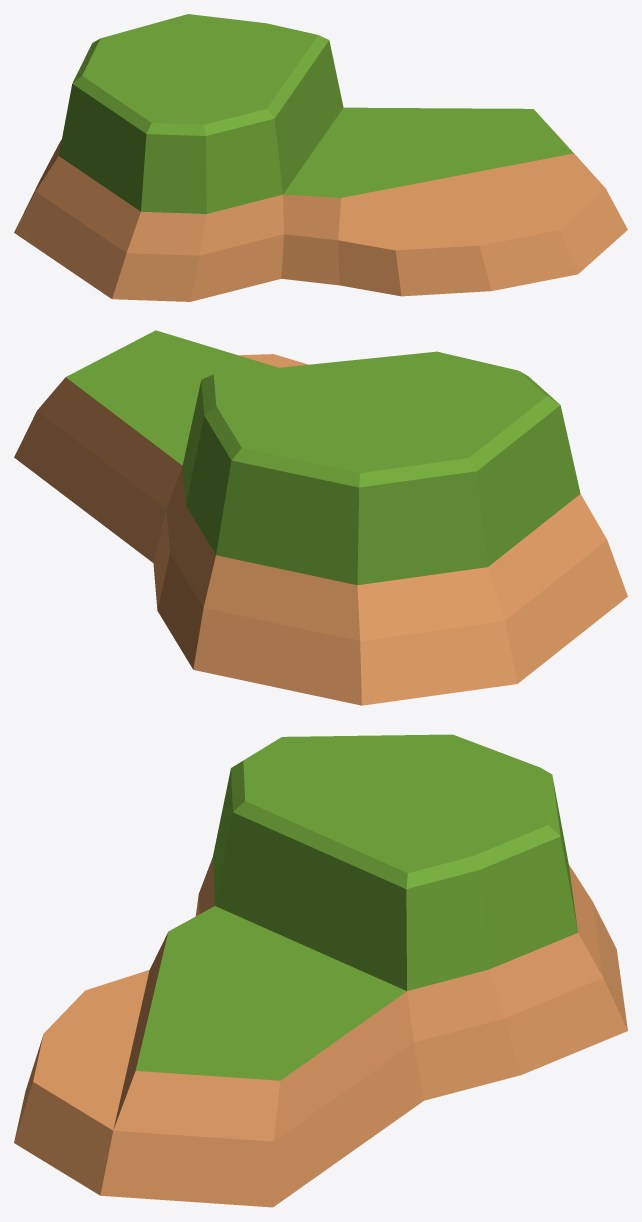
The model's file is Ostrvo_01.fbx.
3 renders of one model, top to bottom at view 1: azimuth 30°, elevation 25°; view 2: azimuth 150°, elevation 25°; view 3: azimuth 270°, elevation 25°, orthographic. The views are drawn at different scales.
Parts seen in each view (by area): view 1: Circle.003; view 2: Circle.003; view 3: Circle.003.
Part boxes in pixels (x1=…): Circle.003: x1=14, y1=14, x2=627, y2=301; Circle.003: x1=14, y1=330, x2=627, y2=705; Circle.003: x1=14, y1=734, x2=627, y2=1207.
Size of the model in its own units: 1180 by 362 by 1002.
